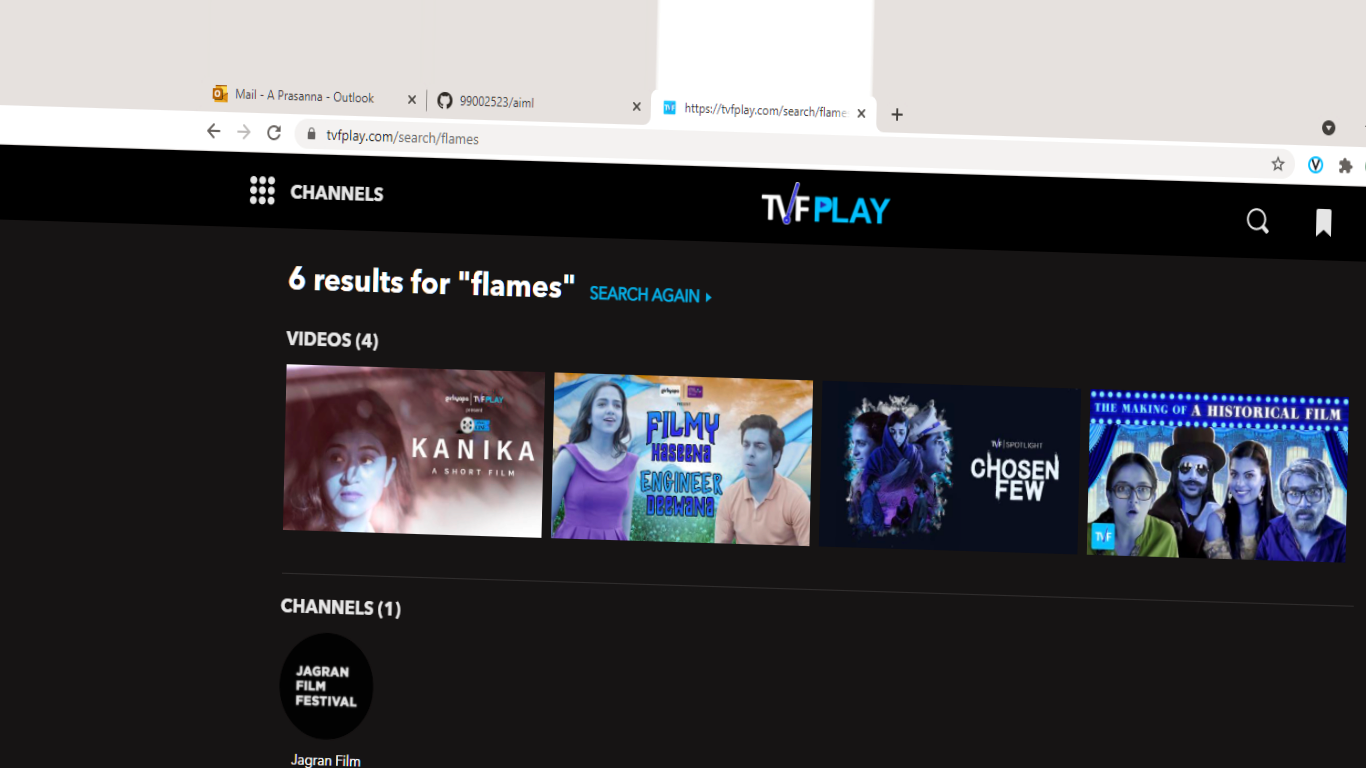resultsfound: (279, 259, 734, 333)
searchicon: (1229, 194, 1288, 242)
